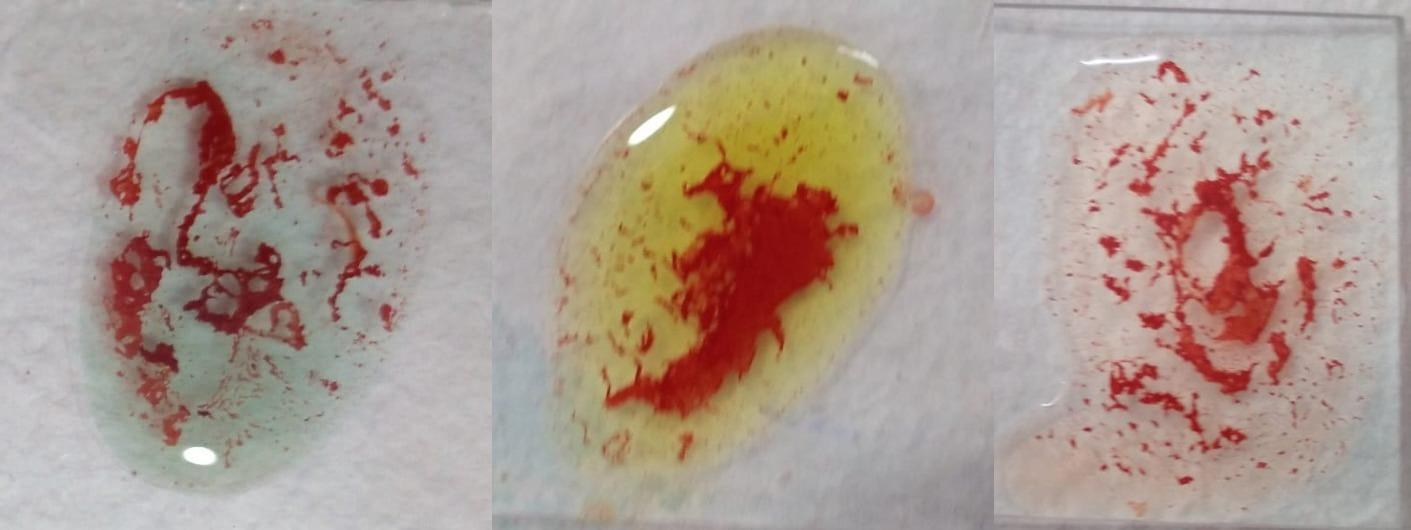A: (77, 23, 429, 498)
B: (576, 33, 896, 475)
D: (1055, 43, 1365, 496)
